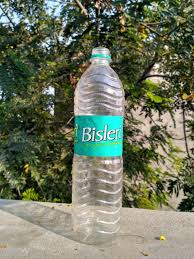Bisleri: (79, 124, 120, 149)
plastic: (78, 65, 114, 229)
